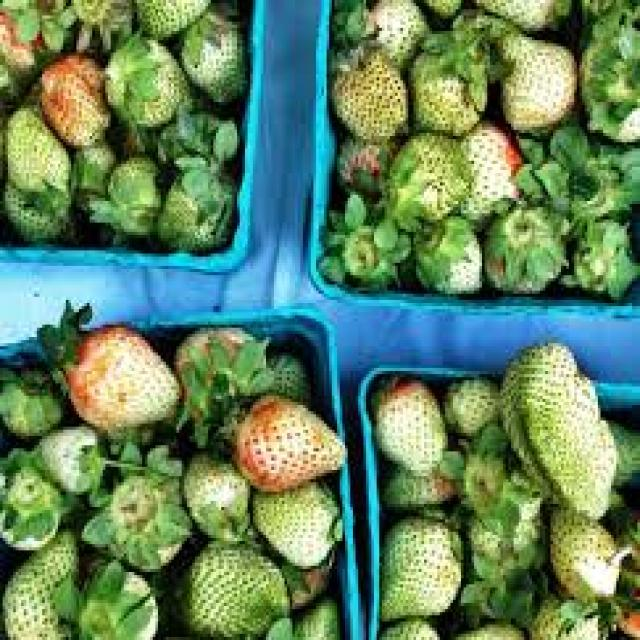immature: (503, 346, 618, 521), (65, 324, 182, 432), (235, 395, 346, 493), (180, 544, 287, 636), (376, 516, 463, 620), (1, 532, 79, 640), (253, 482, 344, 568), (411, 39, 488, 133), (105, 41, 189, 127), (376, 381, 446, 479), (503, 38, 577, 130), (333, 50, 408, 139), (157, 168, 234, 251), (3, 112, 71, 202), (554, 512, 620, 602), (182, 13, 246, 103), (415, 224, 484, 291)
